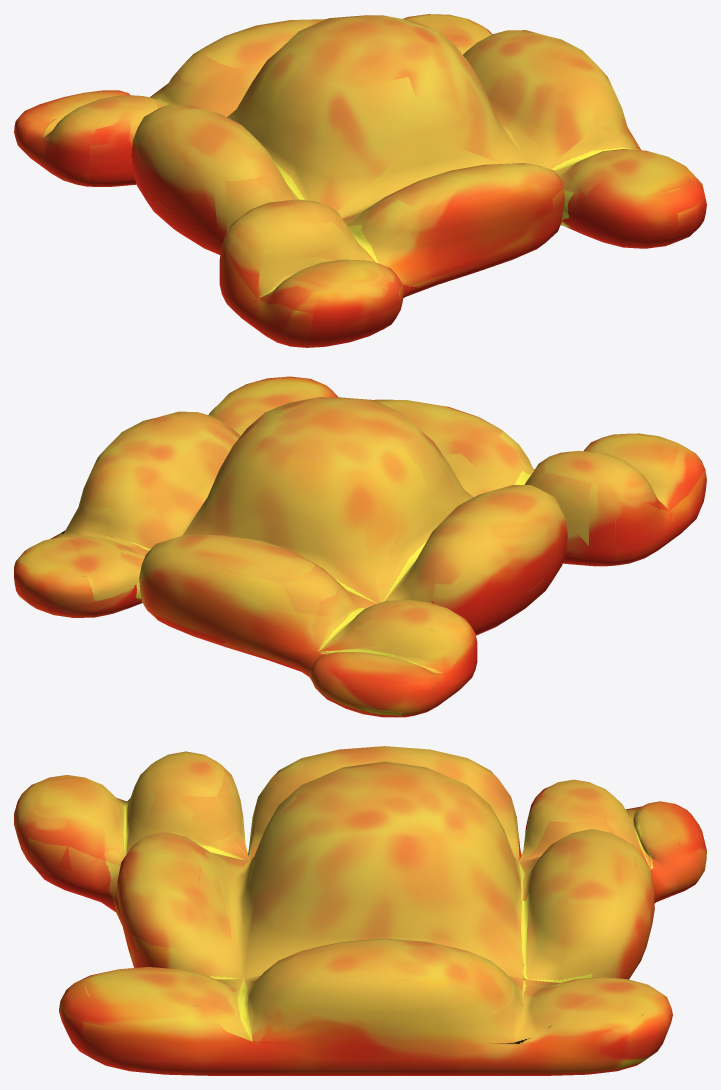
File: coral3.fbx
3 views of the same model, one above another, from view 1: azimuth 30°, elevation 25°; view 2: azimuth 150°, elevation 25°; view 3: azimuth 270°, elevation 25° (orthographic). The views are drawn at different scales.
Visible parts, largest first — view 1: Cube; view 2: Cube; view 3: Cube.
Boxes of the visible parts, bbox=[...] form: Cube: bbox=[14, 14, 706, 347]; Cube: bbox=[14, 376, 706, 717]; Cube: bbox=[14, 746, 706, 1075].
Bounding box in the file's own units: 470 × 166 × 550.
